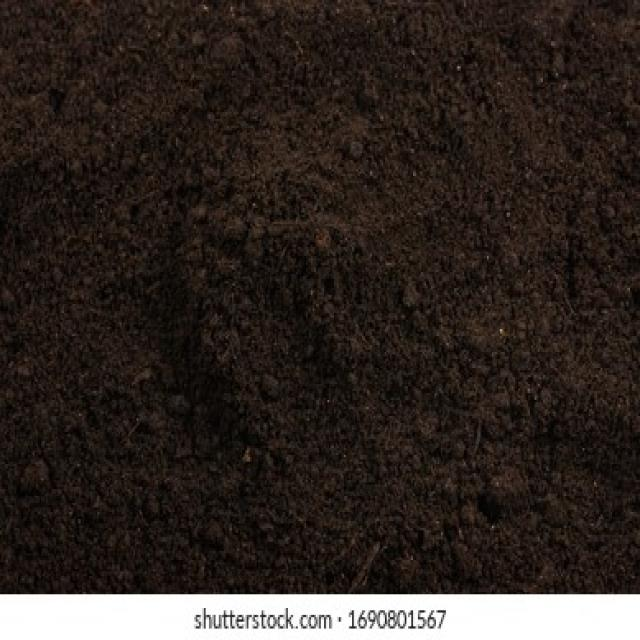Black Soil: (60, 60, 601, 534)
